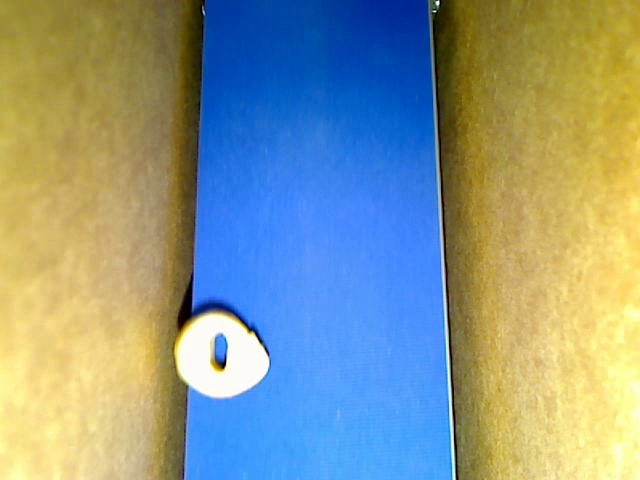tortellini: (173, 309, 269, 401)
